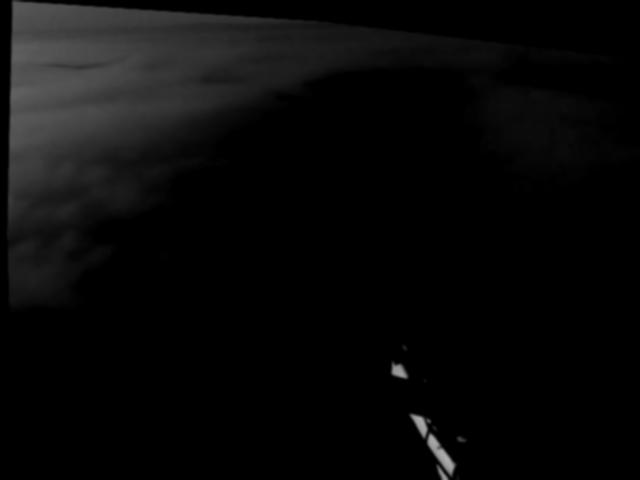hedef: (289, 322, 559, 480)
